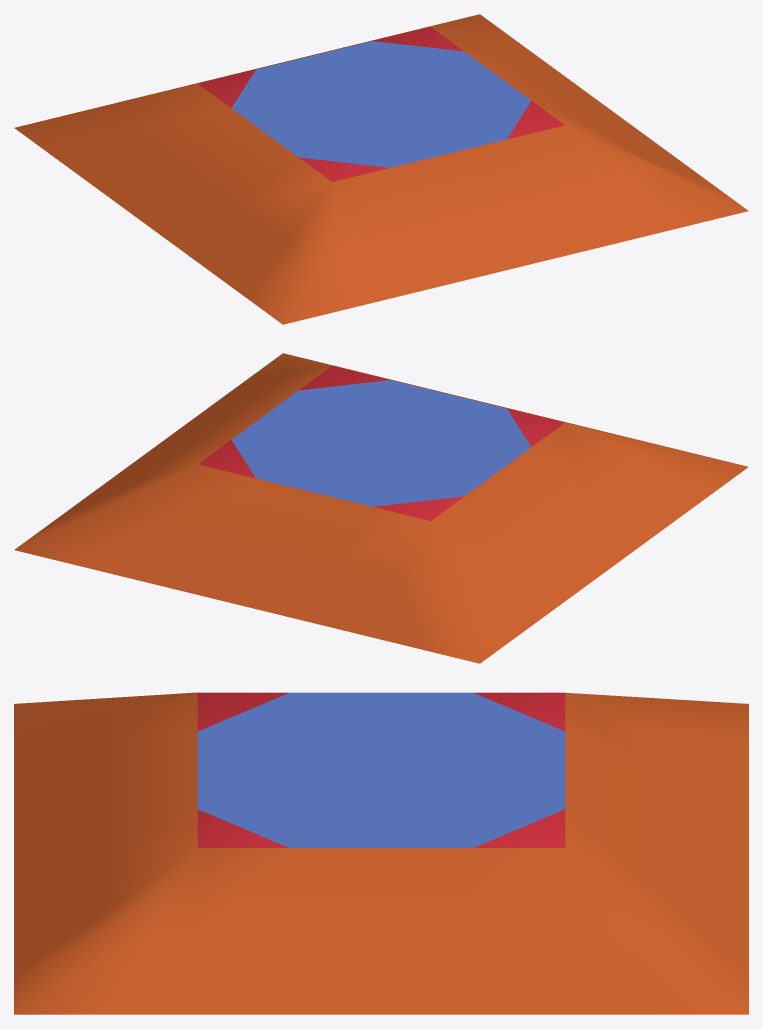
File: simpleArena.obj
3 renders of one model, top to bottom at view 1: azimuth 30°, elevation 25°; view 2: azimuth 150°, elevation 25°; view 3: azimuth 270°, elevation 25°, orthographic. The views are drawn at different scales.
Parts seen in each view (by area): view 1: Arena_Plane; view 2: Arena_Plane; view 3: Arena_Plane.
Part boxes in pixels (x1,y1,x2,y2): Arena_Plane: (14,14,748,324); Arena_Plane: (14,353,748,663); Arena_Plane: (14,692,748,1014).
Bounding box in the file's own units: 75 × 10 × 75.
